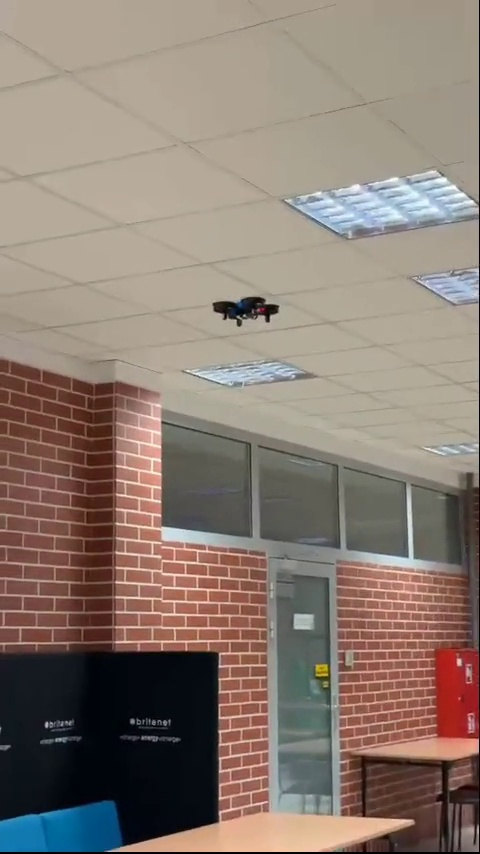drone: (205, 290, 280, 327)
